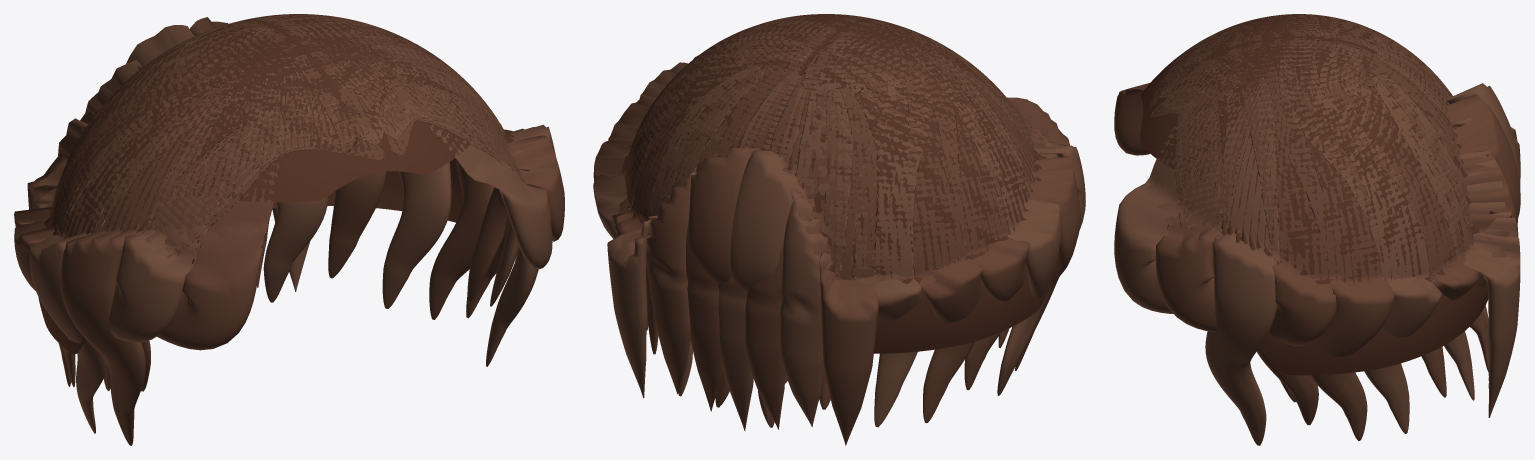
The model's file is Masculine-flow-cap251-hair.glb.
The picture shows the model from 3 angles, left to right: view 1: azimuth 30°, elevation 25°; view 2: azimuth 150°, elevation 25°; view 3: azimuth 270°, elevation 25°; orthographic projection. The views are drawn at different scales.
Parts seen in each view (by area): view 1: 226 hair / Hair / main251.001, 226 hair / Hair / accent251.001, 226 hair / Hair / recessed roots251.001; view 2: 226 hair / Hair / main251.001, 226 hair / Hair / accent251.001, 226 hair / Hair / recessed roots251.001; view 3: 226 hair / Hair / main251.001, 226 hair / Hair / accent251.001, 226 hair / Hair / recessed roots251.001.
Boxes of the visible parts, x1=… form: 226 hair / Hair / main251.001: x1=14, y1=14, x2=564, y2=445; 226 hair / Hair / accent251.001: x1=29, y1=14, x2=555, y2=433; 226 hair / Hair / recessed roots251.001: x1=38, y1=14, x2=514, y2=354; 226 hair / Hair / main251.001: x1=593, y1=14, x2=1080, y2=445; 226 hair / Hair / accent251.001: x1=593, y1=14, x2=1085, y2=430; 226 hair / Hair / recessed roots251.001: x1=617, y1=14, x2=1054, y2=353; 226 hair / Hair / main251.001: x1=1114, y1=14, x2=1520, y2=440; 226 hair / Hair / accent251.001: x1=1114, y1=14, x2=1520, y2=445; 226 hair / Hair / recessed roots251.001: x1=1140, y1=14, x2=1487, y2=375.
Bounding box in the file's own units: 1.11 × 0.8033 × 0.8725.
